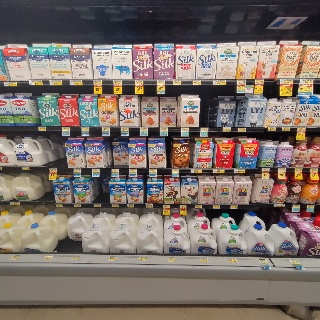All PRICE TAGS: (300, 78, 314, 84), (29, 80, 43, 85), (70, 80, 83, 85), (50, 80, 62, 85), (281, 79, 293, 84), (213, 80, 226, 84), (4, 82, 17, 86), (109, 255, 117, 261), (11, 254, 19, 260), (255, 79, 264, 84), (213, 169, 224, 173), (191, 169, 202, 173), (200, 257, 208, 262), (168, 257, 176, 262), (139, 256, 147, 261), (238, 127, 246, 132), (10, 202, 20, 206), (72, 255, 80, 260), (290, 260, 300, 264), (173, 80, 181, 85), (157, 80, 165, 85), (200, 127, 209, 131), (159, 127, 168, 131), (38, 127, 47, 131), (93, 80, 102, 84), (259, 259, 268, 263), (195, 204, 202, 209), (234, 169, 245, 172), (274, 204, 285, 207), (179, 204, 187, 208), (93, 203, 101, 207), (92, 168, 100, 172), (73, 168, 81, 172), (49, 168, 57, 172), (222, 127, 230, 131), (181, 127, 189, 131), (140, 127, 148, 131), (121, 127, 129, 131), (102, 127, 110, 131), (81, 127, 89, 131), (237, 80, 245, 84), (193, 80, 201, 84), (135, 80, 143, 84), (114, 80, 122, 84), (22, 167, 30, 171), (44, 255, 52, 259), (229, 258, 237, 262), (310, 168, 318, 172), (282, 127, 290, 131), (298, 127, 306, 131), (231, 205, 238, 209), (213, 205, 220, 209), (163, 204, 170, 208), (74, 204, 81, 208), (293, 204, 300, 208), (295, 168, 302, 172), (263, 167, 270, 171), (269, 127, 276, 131), (146, 204, 152, 208), (56, 203, 62, 207), (111, 169, 119, 172), (62, 127, 70, 130), (307, 205, 315, 208), (127, 204, 134, 207), (172, 169, 179, 172), (149, 169, 156, 172), (129, 169, 136, 172), (112, 204, 118, 207), (279, 168, 285, 171)
